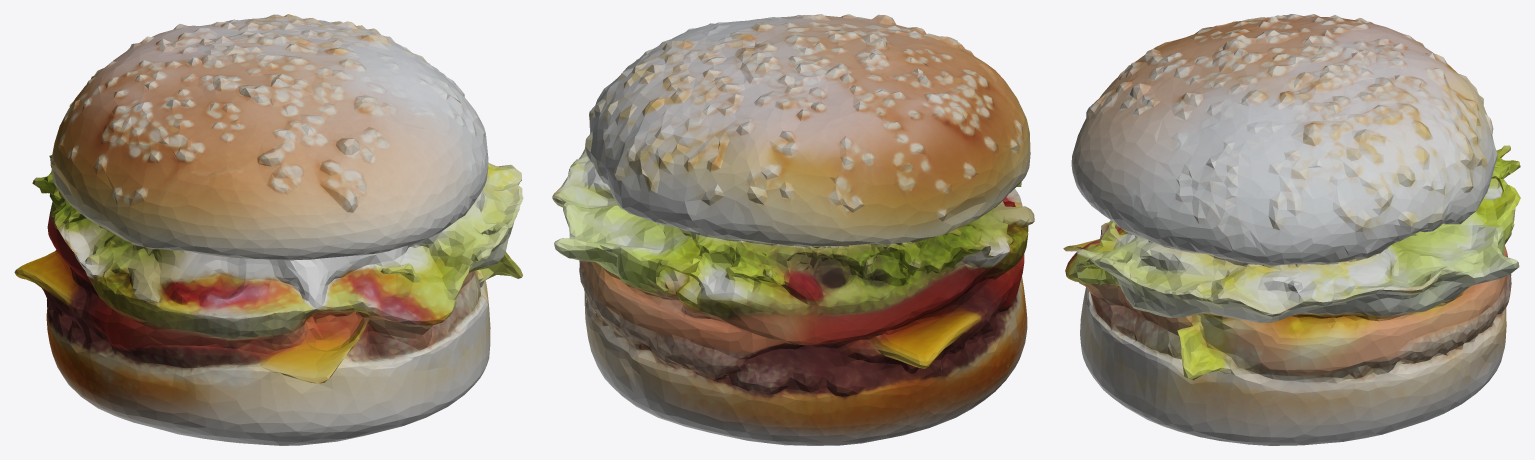
File: burger87.glb
3 renders of one model, left to right at view 1: azimuth 30°, elevation 25°; view 2: azimuth 150°, elevation 25°; view 3: azimuth 270°, elevation 25°, orthographic. The views are drawn at different scales.
Parts seen in each view (by area): view 1: world; view 2: world; view 3: world.
Part boxes in pixels (x1,y1,x2,y2): world: [14, 14, 523, 445]; world: [552, 14, 1034, 445]; world: [1063, 14, 1520, 445].
Bounding box in the file's own units: 0.6692 × 0.48 × 0.6547.
Materials: 1 (1 with a texture image).
